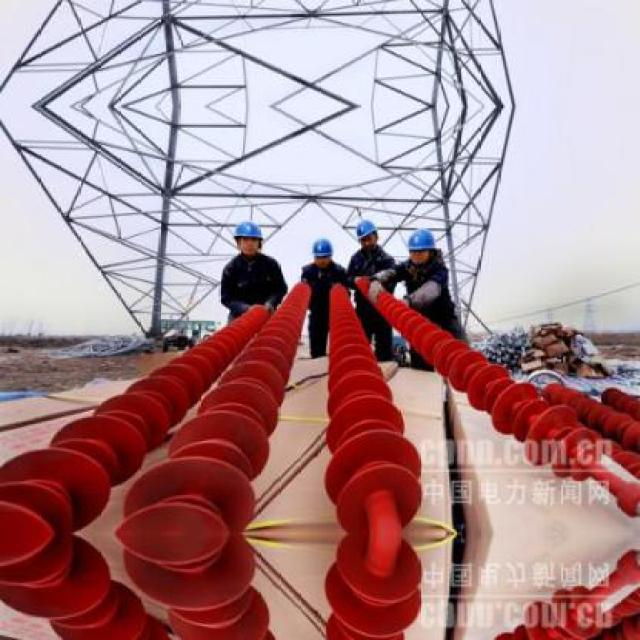helmet: (228, 216, 267, 257), (402, 227, 441, 268), (351, 216, 378, 248), (310, 236, 336, 268)
